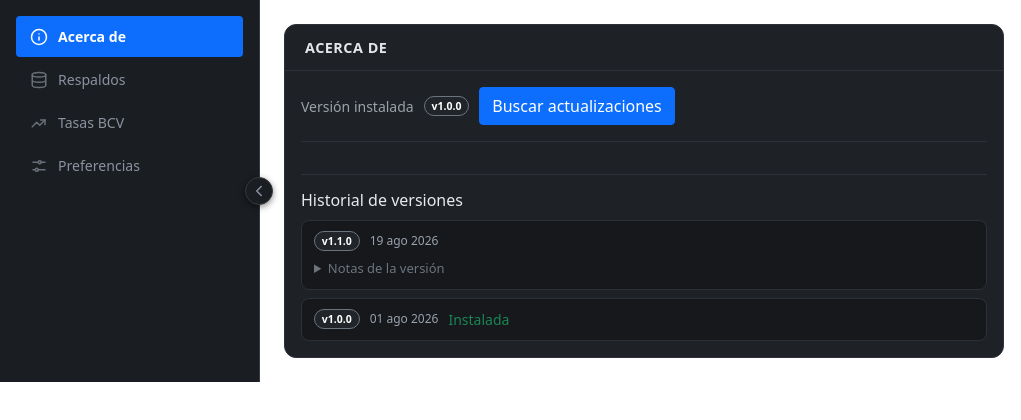
Test: flujo al día: check → "Estás al día"
Click the button "Buscar actualizaciones".
click(577, 106)  # box [479, 87, 675, 125]
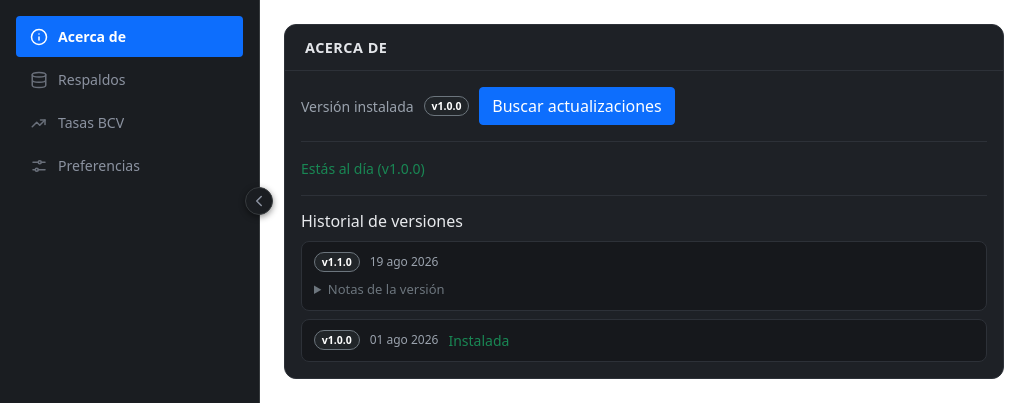
Expected: the text "Estás al día (v1.0.0)" is shown, [301, 158, 425, 179]
